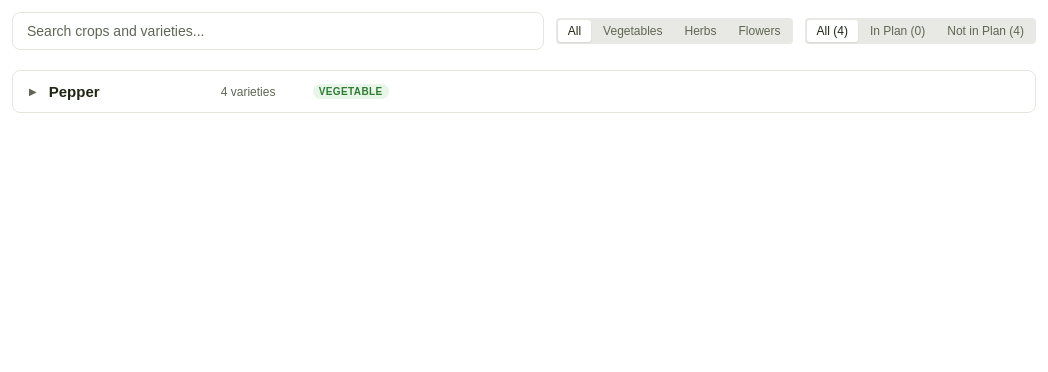
Test case: LibraryView › nested crop families › shows cultivar cards when sub-group is expanded
# Expand family, then expand Bell sub-group
Click the text "Pepper" at (74, 92), box [49, 83, 100, 100]
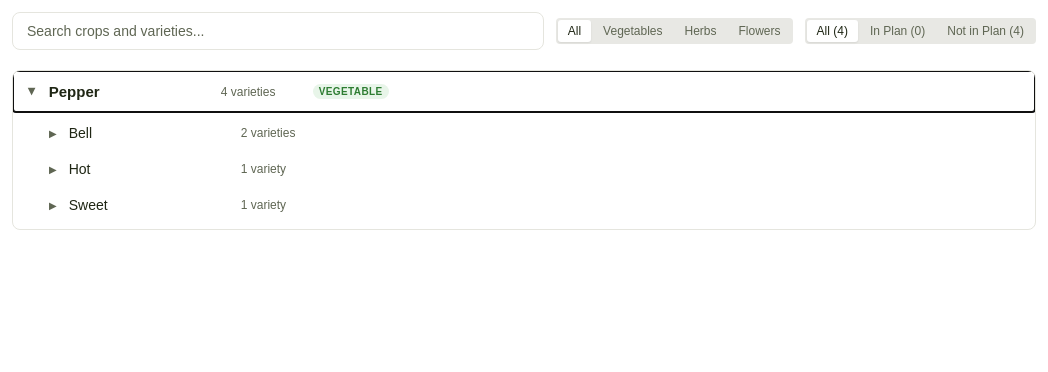
Click the text "Bell" at (80, 133), box [69, 125, 92, 141]
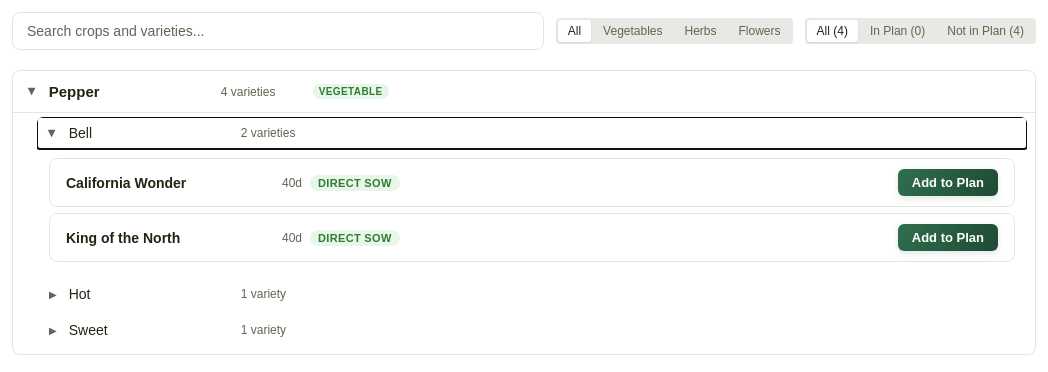
Expected: the text "California Wonder" is shown, [66, 174, 186, 190]
Expected: the text "King of the North" is shown, [66, 230, 180, 246]
